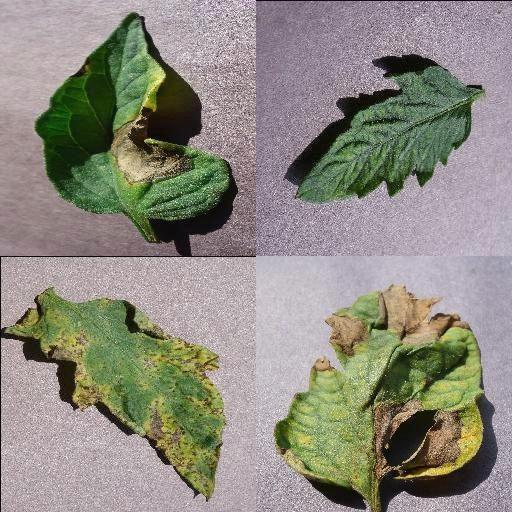Early Blight: (36, 13, 230, 223)
Late Blight: (273, 283, 489, 487)
Mosaic Virus: (293, 62, 475, 204)
Septoria: (4, 287, 227, 502)
